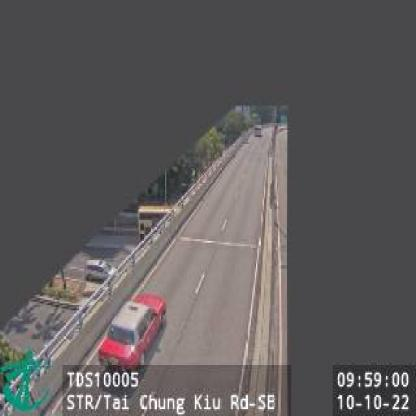Car: (95, 292, 169, 376)
